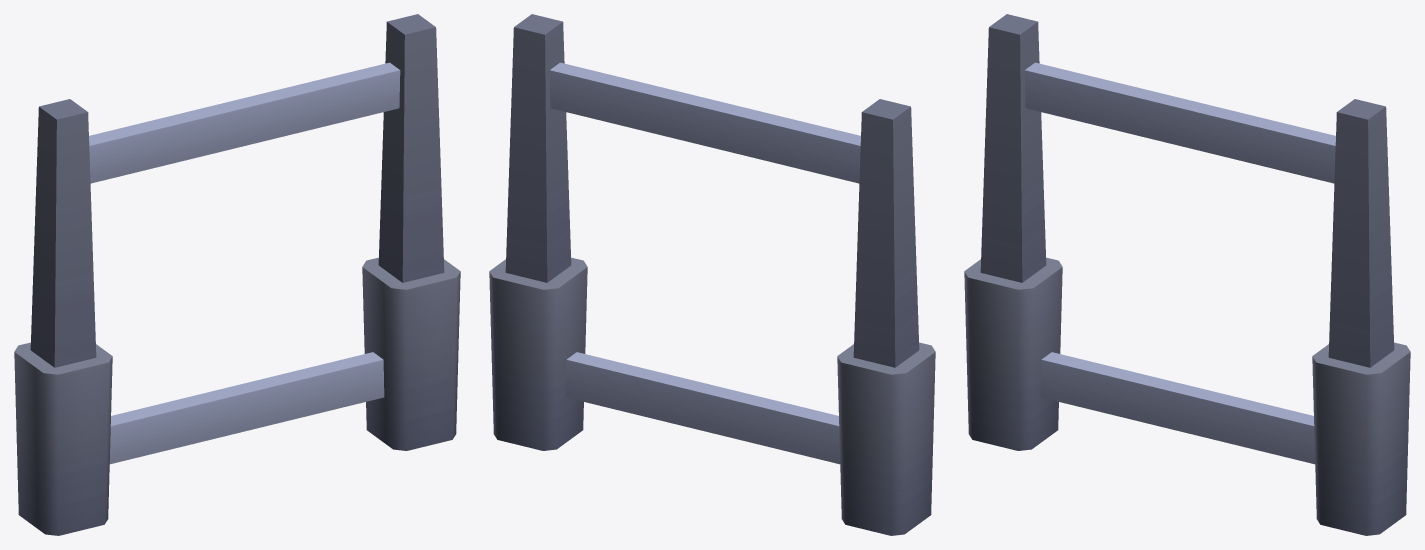
The model's file is structure-metal-wall.glb.
The picture shows the model from 3 angles, left to right: view 1: azimuth 30°, elevation 25°; view 2: azimuth 150°, elevation 25°; view 3: azimuth 330°, elevation 25°; orthographic projection.
Parts seen in each view (by area): view 1: structure-metal-wall; view 2: structure-metal-wall; view 3: structure-metal-wall.
Part boxes in pixels (x1,y1,x2,y2): structure-metal-wall: [14, 14, 460, 535]; structure-metal-wall: [489, 14, 935, 535]; structure-metal-wall: [964, 14, 1410, 535].
Bounding box in the file's own units: 0.5354 × 0.5 × 0.0889.
1 material, 1 textured.
